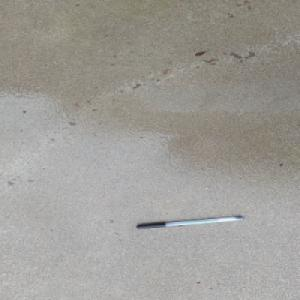Pen: (135, 214, 244, 229)
